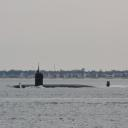submarine: (13, 74, 111, 89)
